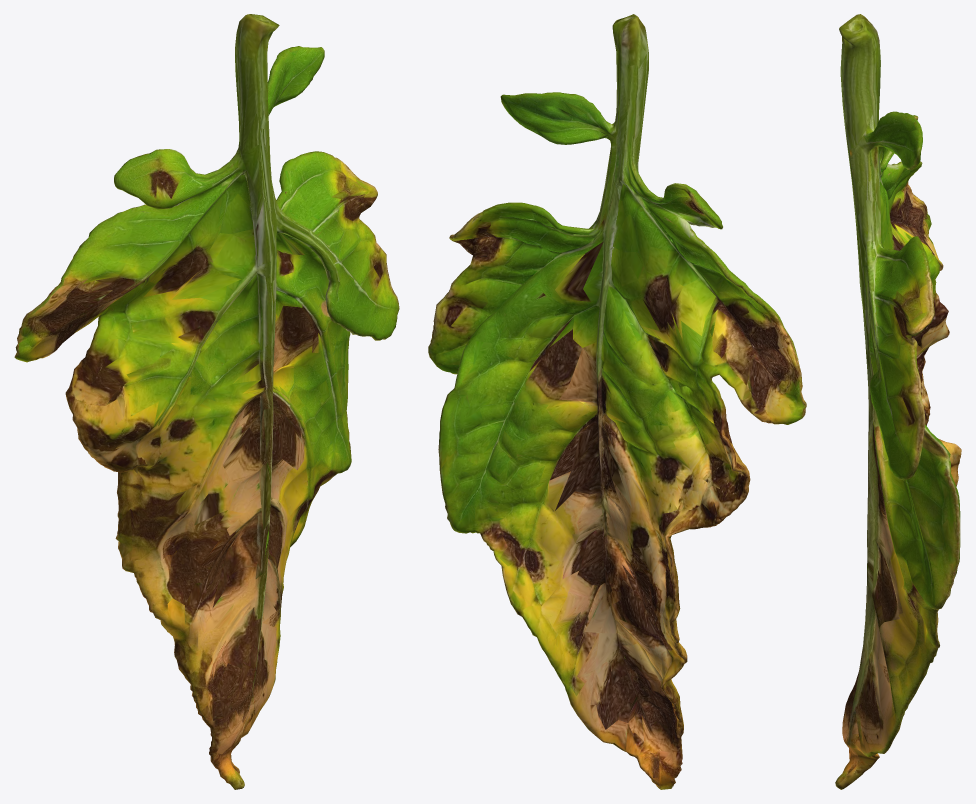
File: tomato_target_spot.glb
3 views of the same model, side by side, from view 1: azimuth 30°, elevation 25°; view 2: azimuth 150°, elevation 25°; view 3: azimuth 270°, elevation 25° (orthographic). The views are drawn at different scales.
Parts seen in each view (by area): view 1: tomato_target_spot; view 2: tomato_target_spot; view 3: tomato_target_spot.
Boxes of the visible parts, x1,y1,x2,y2 form: tomato_target_spot: (14,14,399,789); tomato_target_spot: (428,14,806,789); tomato_target_spot: (835,14,961,789).
Bounding box in the file's own units: 0.5174 × 1 × 0.1463.
1 material, 1 textured.
